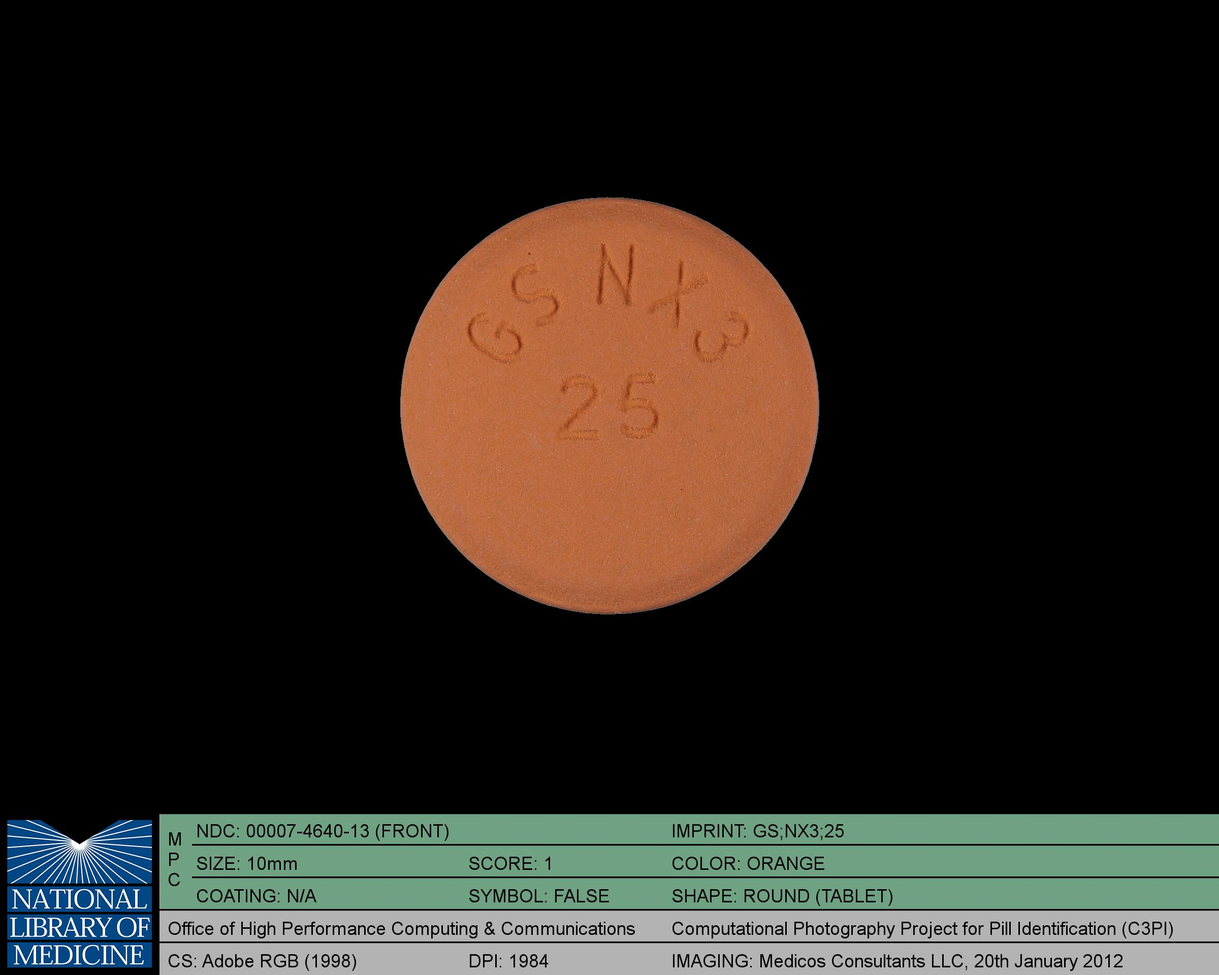Pill: (386, 183, 831, 625)
